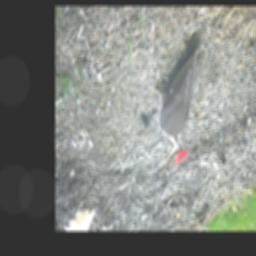Woodpecker: (149, 31, 205, 172)
